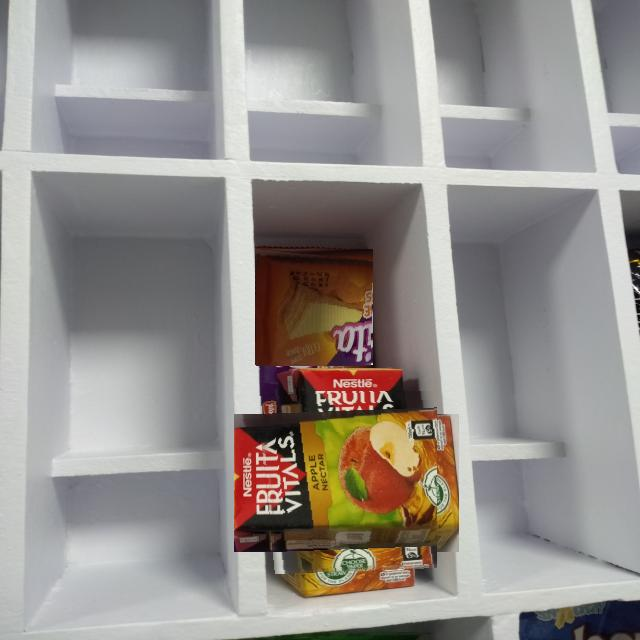Plastic: (256, 391, 437, 574), (256, 248, 373, 366)
